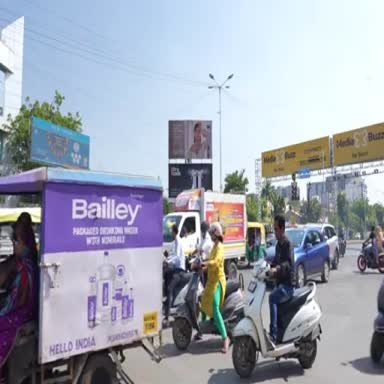Car: (285, 226, 330, 287), (306, 224, 340, 269), (0, 226, 13, 260)
